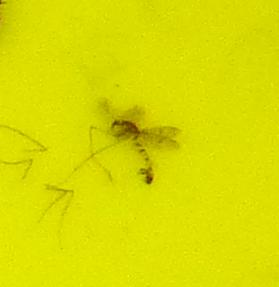Nematocera: (100, 100, 179, 187)
